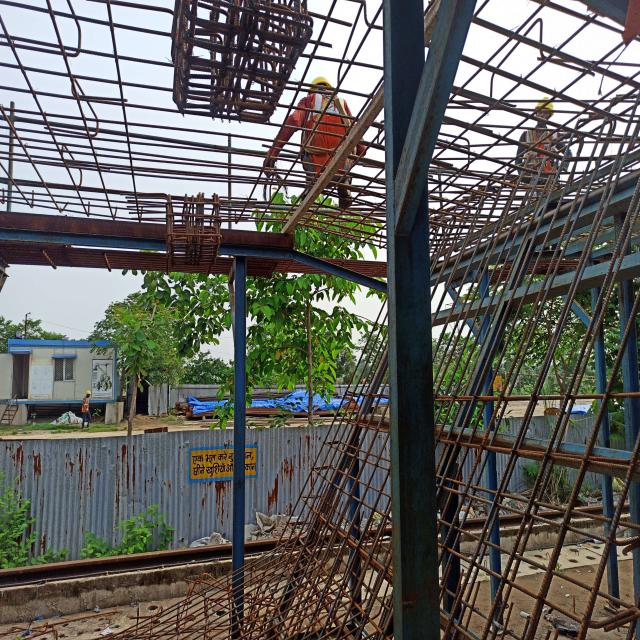Hardhat: (537, 95, 555, 113), (310, 79, 330, 89), (86, 391, 91, 394)
Person: (290, 81, 364, 204), (514, 100, 573, 202), (82, 391, 94, 427)
Safetyvest: (304, 90, 351, 172), (526, 132, 562, 174), (83, 396, 89, 410)
